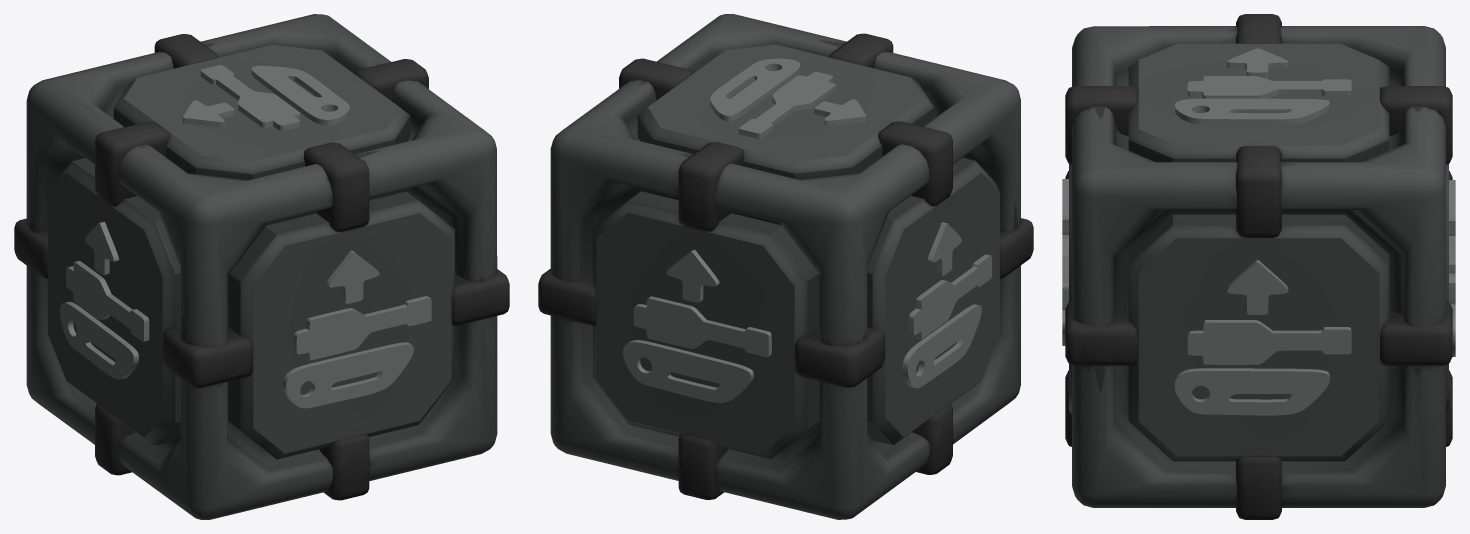
Rendered from Weapon_Powerup.fbx.
The picture shows the model from 3 angles, left to right: view 1: azimuth 30°, elevation 25°; view 2: azimuth 150°, elevation 25°; view 3: azimuth 270°, elevation 25°; orthographic projection. The views are drawn at different scales.
Parts seen in each view (by area): view 1: Weapon_Powerup; view 2: Weapon_Powerup; view 3: Weapon_Powerup.
Boxes of the visible parts, x1,y1,x2,y2 form: Weapon_Powerup: (14,14,509,519); Weapon_Powerup: (538,14,1033,519); Weapon_Powerup: (1062,14,1455,519).
Size of the model in its own units: 0.1224 by 0.1224 by 0.1224.
